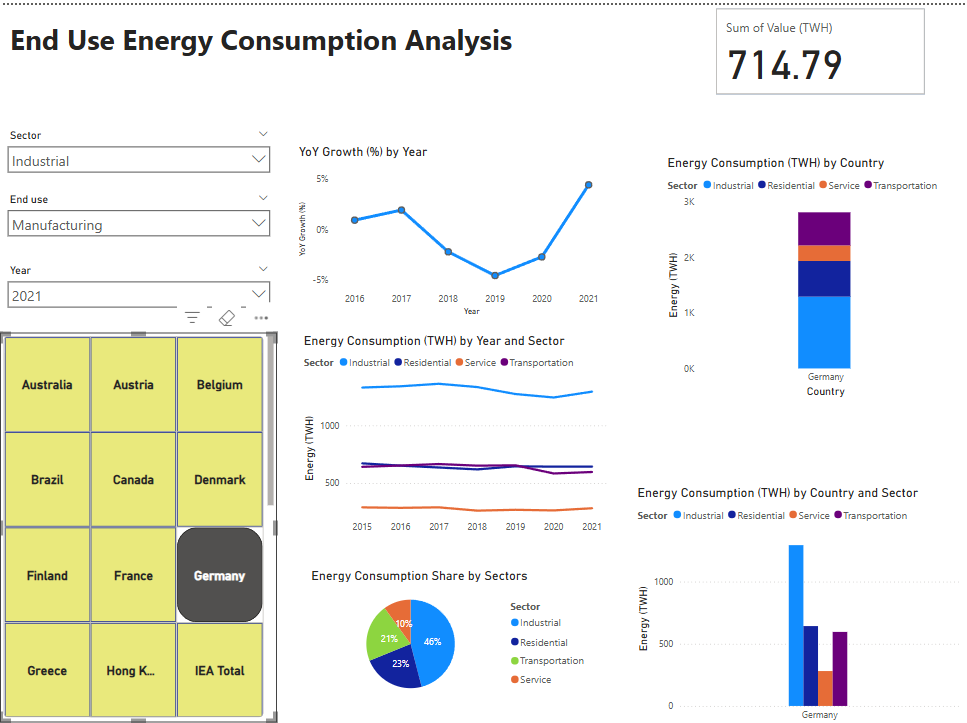

The dashboard page shown, as its layout file describes it:
{"tool":"powerbi","page":{"name":"Page 1","canvas":[1300,1000],"ordinal":0},"visuals":[{"type":"clusteredColumnChart","title":"Energy Consumption  (TWH) by Country and Sector","fields":{"Category":["Table.Country"],"Series":["Table.Sector"],"Y":["Sum(Table.Value (TWH))"]},"box":[845,640,438.3,338.3],"z":0},{"type":"slicer","fields":{"Values":["Table.Year"]},"box":[0,340,370,80],"z":1000},{"type":"advancedSlicerVisual","fields":{"Values":["Table.Country"]},"box":[0,436.7,370,520],"z":2000},{"type":"lineChart","title":"Energy Consumption (TWH) by Year and Sector","fields":{"Category":["Table.Year"],"Series":["Table.Sector"],"Y":["Sum(Table.Value (TWH))"]},"box":[400,436.7,415,276.7],"z":3000},{"type":"columnChart","title":"Energy Consumption (TWH) by Country","fields":{"Category":["Table.Country"],"Y":["Sum(Table.Value (TWH))"],"Series":["Table.Sector"]},"box":[885,200,386.7,328.3],"z":4000},{"type":"pieChart","title":"Energy Consumption Share by Sectors","fields":{"Category":["Table.Sector"],"Y":["Sum(Table.Value (TWH))"]},"box":[410,750,383.3,185],"z":5000},{"type":"cardVisual","fields":{"Data":["Sum(Table.Value (TWH))"]},"box":[491,45,288,125],"z":6000},{"type":"slicer","fields":{"Values":["Table.End use"]},"box":[0,245,370,75],"z":7000},{"type":"slicer","fields":{"Values":["Table.Sector"]},"box":[0,160,370,78.3],"z":8000},{"type":"lineChart","fields":{"Category":["Table.Year"],"Y":["Table.YoY Growth (%)"]},"box":[393.3,185,421.7,235],"z":9000}]}

Visuals, with their boxes on the page's 1300x1000 design canvas (x1, y1, x2, y2). These are canvas units, not pixel positions in the 967x723 screenshot, which may show the page scaled, cropped or inside an application window:
"Energy Consumption  (TWH) by Country and Sector" clusteredColumnChart: x1=845 y1=640 x2=1283 y2=978
slicer - Table.Year: x1=0 y1=340 x2=370 y2=420
advancedSlicerVisual - Table.Country: x1=0 y1=437 x2=370 y2=957
"Energy Consumption (TWH) by Year and Sector" lineChart: x1=400 y1=437 x2=815 y2=713
"Energy Consumption (TWH) by Country" columnChart: x1=885 y1=200 x2=1272 y2=528
"Energy Consumption Share by Sectors" pieChart: x1=410 y1=750 x2=793 y2=935
cardVisual - Sum(Table.Value (TWH)): x1=491 y1=45 x2=779 y2=170
slicer - Table.End use: x1=0 y1=245 x2=370 y2=320
slicer - Table.Sector: x1=0 y1=160 x2=370 y2=238
lineChart - Table.Year x Table.YoY Growth (%): x1=393 y1=185 x2=815 y2=420
